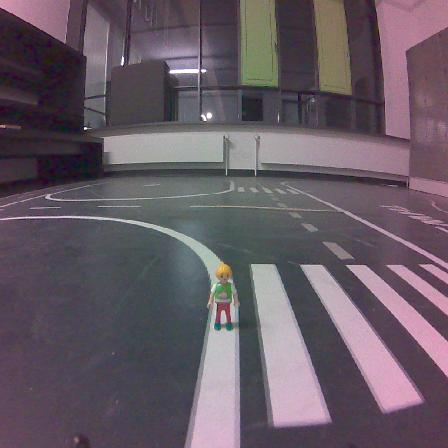CHILD: (207, 262, 238, 330)
